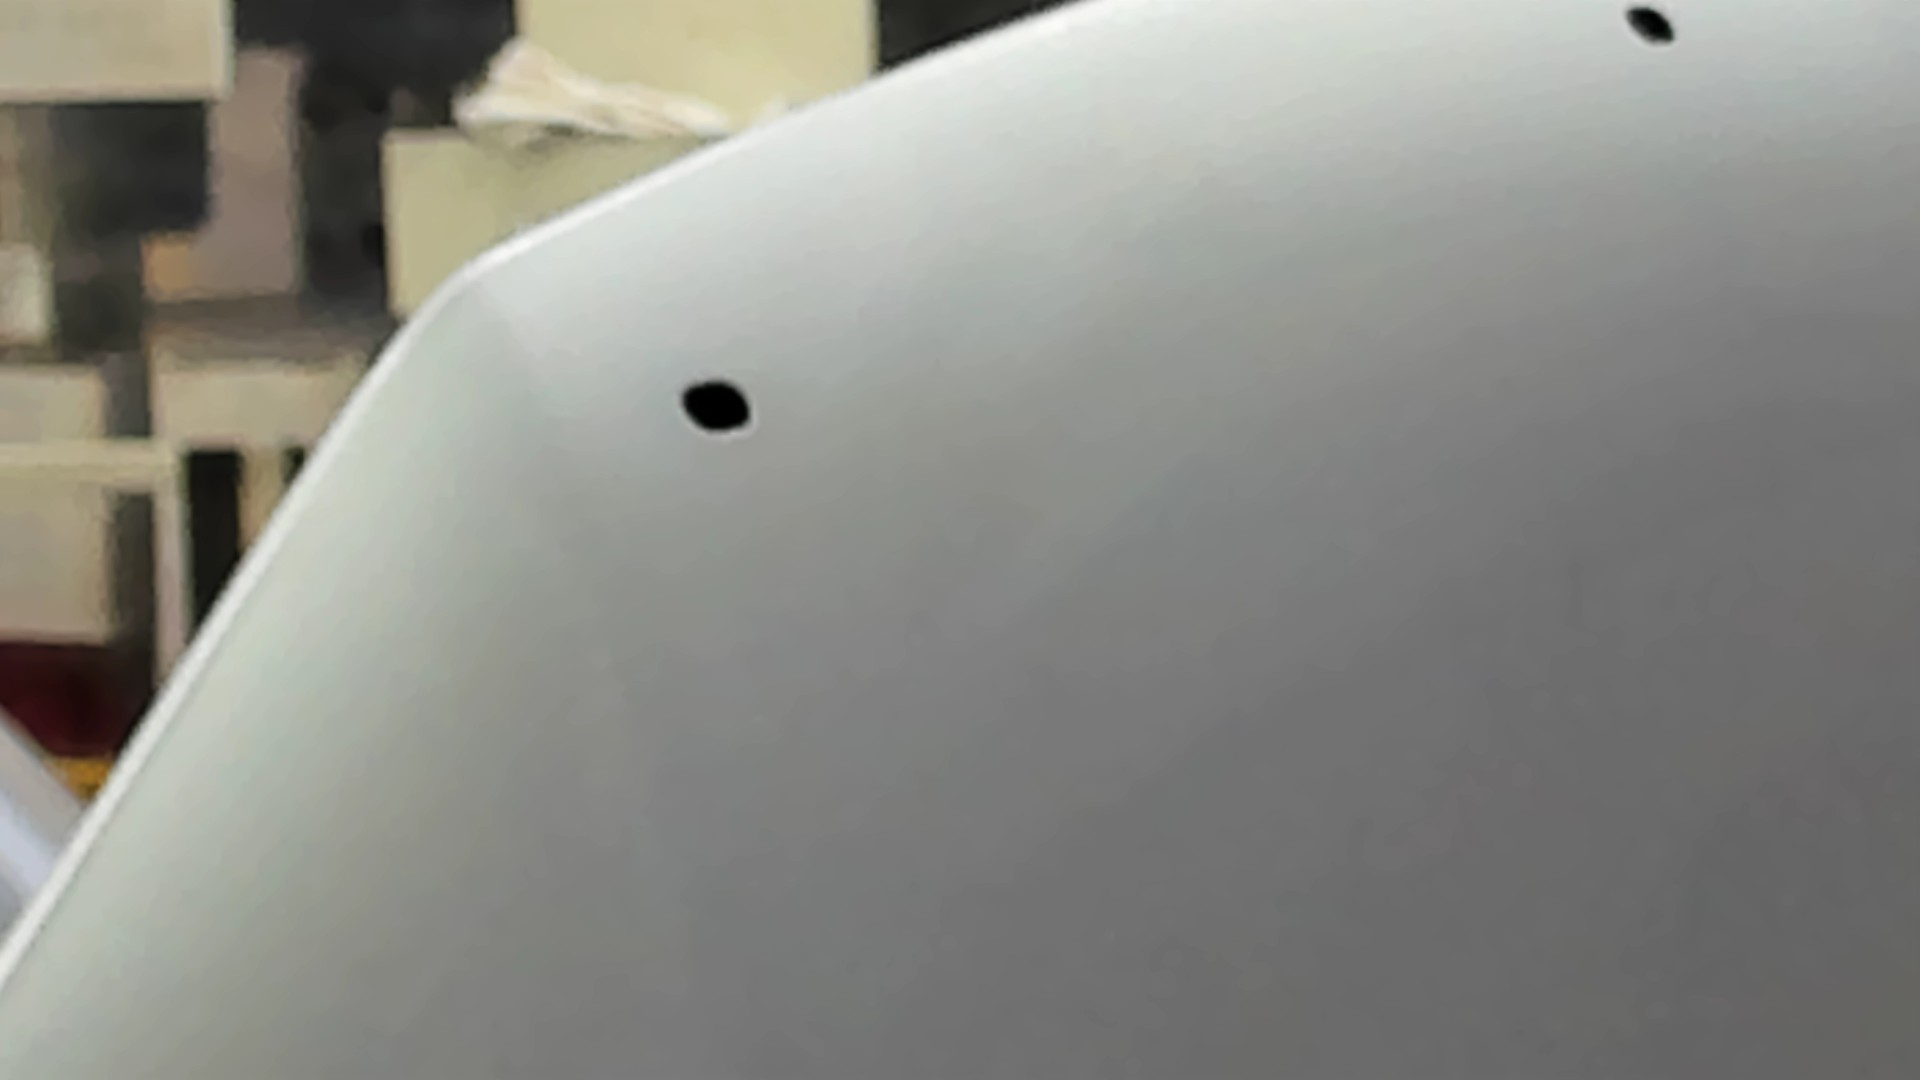amorfo: (674, 377, 760, 438), (1619, 1, 1680, 53)
